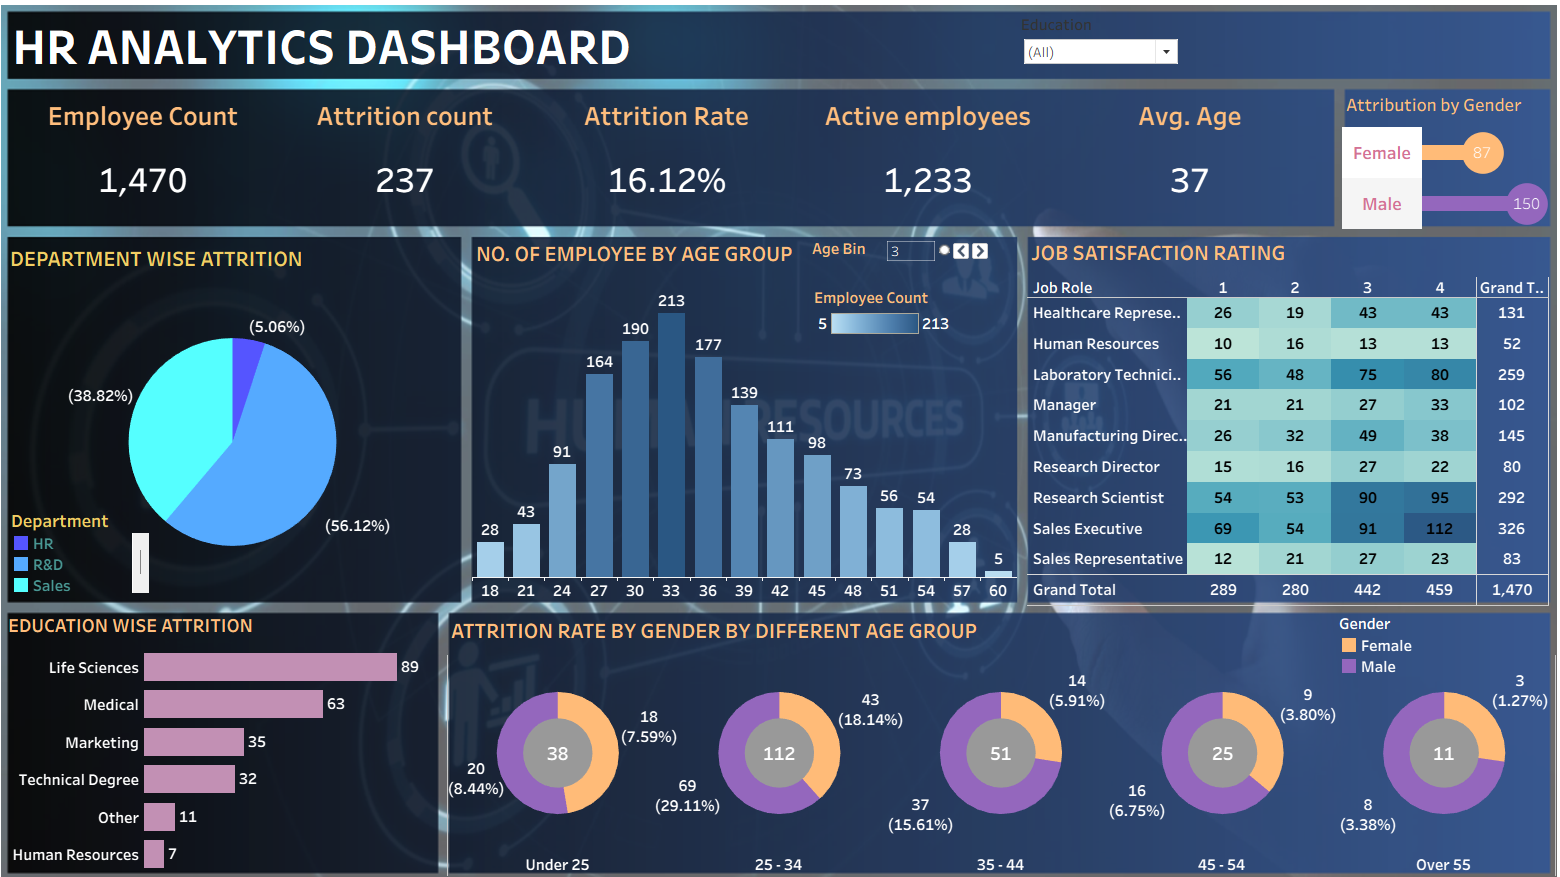

Layout of this report page (visuals, bound fields, positions):
{"tool":"tableau","page":{"name":"HR Analytics Dashboard","canvas":[1580,900],"ordinal":0},"visuals":[{"type":"image","param":"Image/HR background.pptx.png","box":[8,8,1564,884]},{"type":"text","box":[20,21,637,62]},{"type":"filter","title":"Department wise attrition","param":"[federated.098x8ru13icl6f10qhgll0o9v79y].[none:Education:nk]","box":[1032,21,160,63]},{"type":"worksheet","title":"Attrition by gender","mark":"Automatic","rows":["Gender"],"cols":["Calculation_1406530501687062528","Calculation_1406530501687062528"],"box":[1353,95,212,141]},{"type":"worksheet","title":"KPI","mark":"Automatic","box":[23,99,1309,134]},{"type":"worksheet","title":"Job satisfaction rating","mark":"Square","rows":["Job Role"],"cols":["Job Satisfaction"],"box":[1038,241,522,372]},{"type":"worksheet","title":"No, of employee by age group","mark":"Bar","rows":["Employee Count"],"cols":["Age (bin)"],"box":[483,242,545,367]},{"type":"parameter","param":"[Parameters].[Parameter 1]","box":[823,245,179,39]},{"type":"worksheet","title":"Department wise attrition","mark":"Pie","box":[17,247,453,361]},{"type":"legend","title":"No, of employee by age group","param":"[federated.098x8ru13icl6f10qhgll0o9v79y].[sum:Employee Count:qk]","box":[825,294,140,52]},{"type":"legend","title":"Department wise attrition","param":"[federated.098x8ru13icl6f10qhgll0o9v79y].[none:Department:nk]","box":[22,515,140,85]},{"type":"worksheet","title":"education field wise attrition","mark":"Bar","rows":["Education Field"],"cols":["Calculation_1406530501687062528"],"box":[15,615,433,265]},{"type":"worksheet","title":"attrition rate by gender by different age group","mark":"Pie","rows":["Calculation_1406530501754023940","Calculation_1406530501754425350"],"cols":["CF_age band"],"box":[458,619,1109,265]},{"type":"legend","title":"attrition rate by gender by different age group","param":"[federated.098x8ru13icl6f10qhgll0o9v79y].[none:Gender:nk]","box":[1350,620,209,66]}]}

Visuals, with their boxes in screenshot pixels (x1, y1, x2, y2), scaled from the page's 1580x900 canvas onto the 1560x877 screenshot:
image: locate(8, 8, 1552, 869)
text: locate(20, 20, 649, 81)
"Department wise attrition" filter: locate(1019, 20, 1177, 82)
"Attrition by gender" worksheet: locate(1336, 93, 1545, 230)
"KPI" worksheet: locate(23, 96, 1315, 227)
"Job satisfaction rating" worksheet (Square marks): locate(1025, 235, 1540, 597)
"No, of employee by age group" worksheet (Bar marks): locate(477, 236, 1015, 593)
parameter: locate(813, 239, 989, 277)
"Department wise attrition" worksheet (Pie marks): locate(17, 241, 464, 592)
"No, of employee by age group" legend: locate(815, 286, 953, 337)
"Department wise attrition" legend: locate(22, 502, 160, 585)
"education field wise attrition" worksheet (Bar marks): locate(15, 599, 442, 858)
"attrition rate by gender by different age group" worksheet (Pie marks): locate(452, 603, 1547, 861)
"attrition rate by gender by different age group" legend: locate(1333, 604, 1539, 668)
